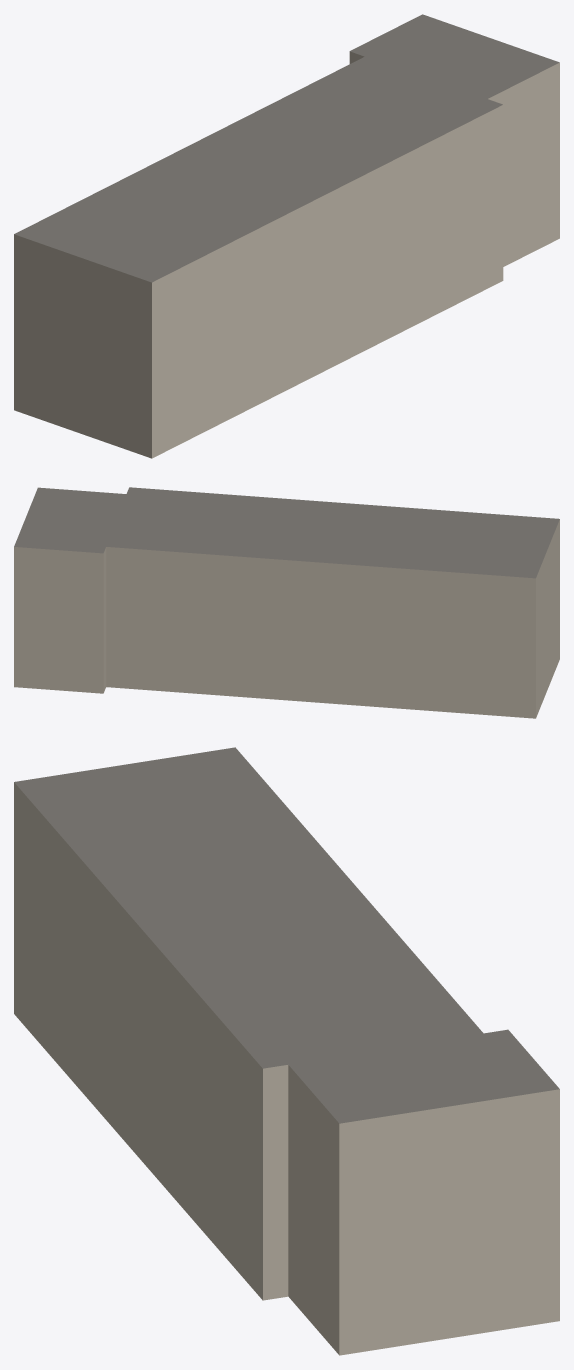
3 renders of one model, top to bottom at view 1: azimuth 30°, elevation 25°; view 2: azimuth 150°, elevation 25°; view 3: azimuth 270°, elevation 25°, orthographic. The views are drawn at different scales.
Parts seen in each view (by area): view 1: HP-w1286957252; view 2: HP-w1286957252; view 3: HP-w1286957252.
Boxes of the visible parts, <box> form: HP-w1286957252: <box>14,14,559,458</box>; HP-w1286957252: <box>14,487,559,718</box>; HP-w1286957252: <box>14,747,559,1355</box>.
Bounding box in the file's own units: 62.64 × 18 × 38.41.
